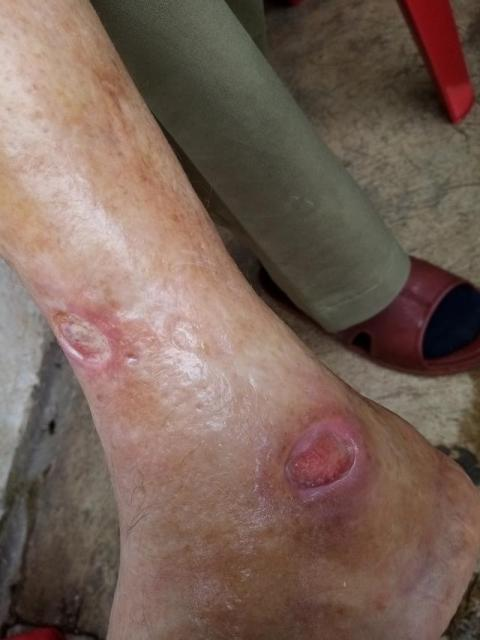wound: (283, 419, 362, 507), (52, 307, 114, 369), (123, 352, 141, 367)
